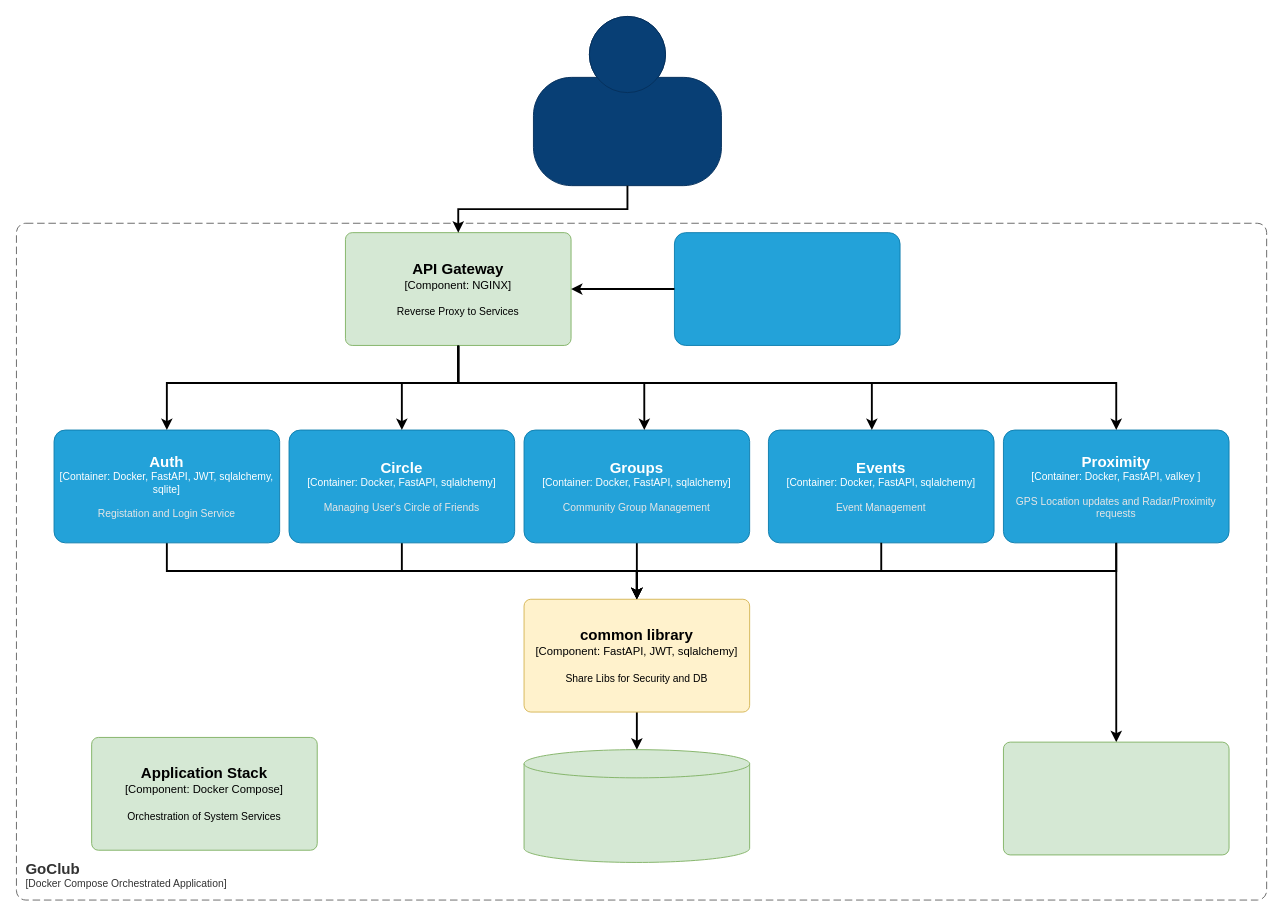
The diagram is 1283 pixels wide and 917 high, and some of its shapes have lost their labels. The centre of each missing label's shape, as x and y in pixels:
"App.db [Container: Sqlite] Transactional Database" goes at point 636,805.
"Frontend [Container: FastAPI, Jinja] Server Side HTML Rendering" goes at point 787,288.
"User [Person] User" goes at point 627,101.
"Valkey [Component: Valkey] In-Memory DB + GEO Services" goes at point 1116,798.
